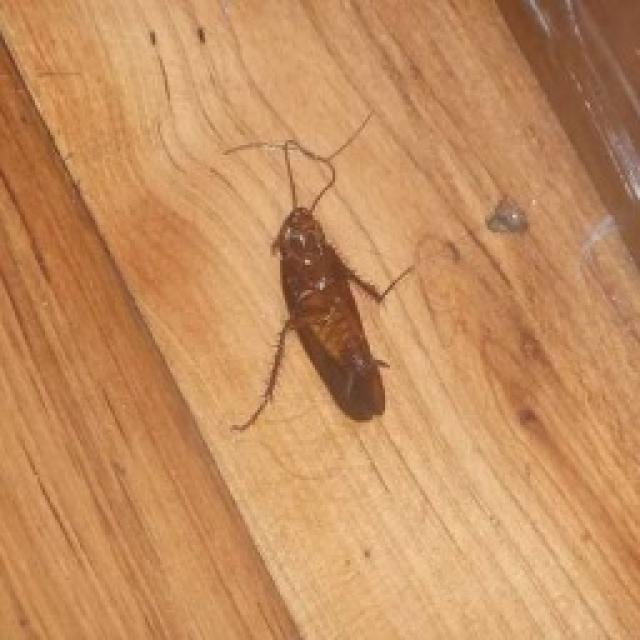cockroach: (216, 123, 420, 438)
